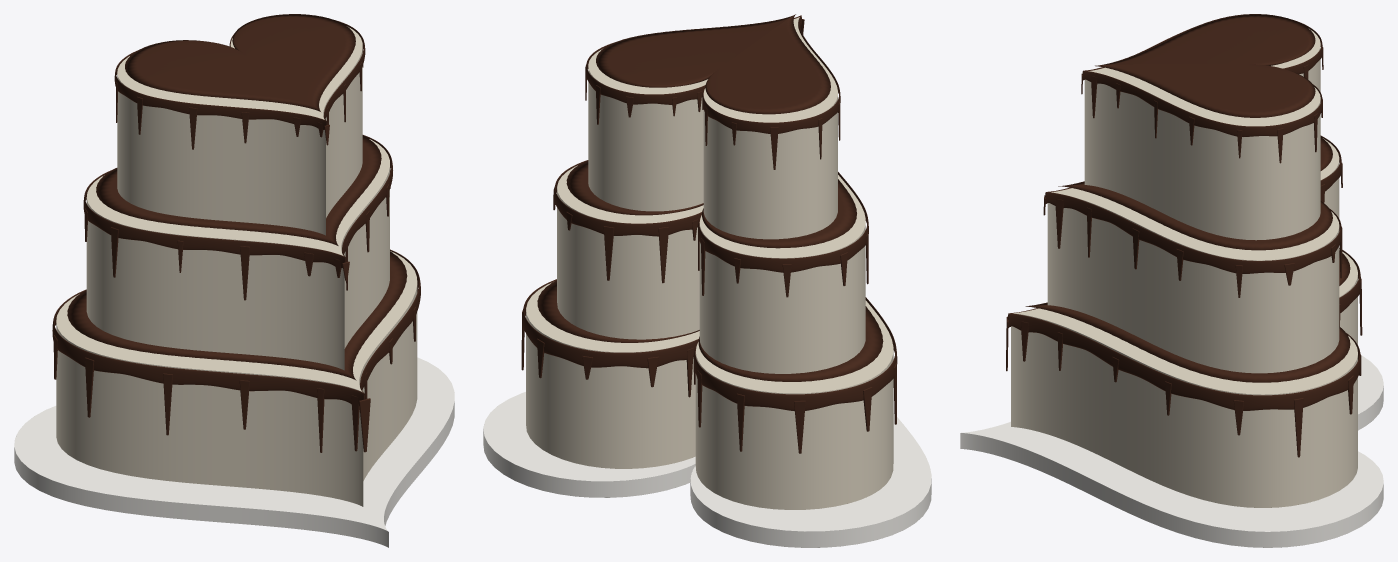
File: heart_3_tier.glb
3 views of the same model, side by side, from view 1: azimuth 30°, elevation 25°; view 2: azimuth 150°, elevation 25°; view 3: azimuth 270°, elevation 25° (orthographic). The views are drawn at different scales.
Parts seen in each view (by area): view 1: heart_3_L1_body, heart_3_L2_body, heart_3_L3_body, heart_3_board, heart_3_L3_copied_circle_style_glossy_top_cap, heart_3_L1_copied_circle_style_heart_full_perimeter_chocolat, heart_3_L1_copied_circle_style_glossy_top_cap, heart_3_L2_copied_circle_style_glossy_top_cap, heart_3_L2_copied_circle_style_heart_full_perimeter_chocolat, heart_3_L3_copied_circle_style_heart_full_perimeter_chocolat; view 2: heart_3_L1_body, heart_3_L2_body, heart_3_L3_body, heart_3_board, heart_3_L3_copied_circle_style_glossy_top_cap, heart_3_L1_copied_circle_style_heart_full_perimeter_chocolat, heart_3_L2_copied_circle_style_heart_full_perimeter_chocolat, heart_3_L1_copied_circle_style_glossy_top_cap, heart_3_L2_copied_circle_style_glossy_top_cap, heart_3_L3_copied_circle_style_heart_full_perimeter_chocolat; view 3: heart_3_L1_body, heart_3_L2_body, heart_3_L3_body, heart_3_board, heart_3_L3_copied_circle_style_glossy_top_cap, heart_3_L1_copied_circle_style_heart_full_perimeter_chocolat, heart_3_L2_copied_circle_style_heart_full_perimeter_chocolat, heart_3_L1_copied_circle_style_glossy_top_cap, heart_3_L2_copied_circle_style_glossy_top_cap, heart_3_L3_copied_circle_style_heart_full_perimeter_chocolat.
Part boxes in pixels (x1,y1,x2,y2): heart_3_L1_body: [56, 251, 417, 506]; heart_3_L2_body: [86, 139, 389, 370]; heart_3_L3_body: [117, 26, 362, 235]; heart_3_board: [14, 357, 454, 547]; heart_3_L3_copied_circle_style_glossy_top_cap: [125, 14, 355, 111]; heart_3_L1_copied_circle_style_heart_full_perimeter_chocolat: [52, 249, 420, 406]; heart_3_L1_copied_circle_style_glossy_top_cap: [67, 251, 407, 380]; heart_3_L2_copied_circle_style_glossy_top_cap: [96, 135, 381, 245]; heart_3_L2_copied_circle_style_heart_full_perimeter_chocolat: [83, 135, 392, 268]; heart_3_L3_copied_circle_style_heart_full_perimeter_chocolat: [114, 20, 365, 129]; heart_3_L1_body: [526, 282, 893, 509]; heart_3_L2_body: [557, 165, 865, 373]; heart_3_L3_body: [588, 17, 837, 239]; heart_3_board: [483, 392, 931, 547]; heart_3_L3_copied_circle_style_glossy_top_cap: [596, 14, 830, 114]; heart_3_L1_copied_circle_style_heart_full_perimeter_chocolat: [522, 279, 897, 411]; heart_3_L2_copied_circle_style_heart_full_perimeter_chocolat: [554, 160, 868, 272]; heart_3_L1_copied_circle_style_glossy_top_cap: [537, 280, 883, 381]; heart_3_L2_copied_circle_style_glossy_top_cap: [566, 160, 856, 248]; heart_3_L3_copied_circle_style_heart_full_perimeter_chocolat: [585, 15, 840, 133]; heart_3_L1_body: [1011, 249, 1357, 507]; heart_3_L2_body: [1047, 138, 1339, 373]; heart_3_L3_body: [1084, 29, 1320, 240]; heart_3_board: [960, 355, 1383, 547]; heart_3_L3_copied_circle_style_glossy_top_cap: [1095, 14, 1315, 117]; heart_3_L1_copied_circle_style_heart_full_perimeter_chocolat: [1007, 248, 1360, 410]; heart_3_L2_copied_circle_style_heart_full_perimeter_chocolat: [1045, 135, 1341, 273]; heart_3_L1_copied_circle_style_glossy_top_cap: [1025, 250, 1350, 382]; heart_3_L2_copied_circle_style_glossy_top_cap: [1058, 137, 1332, 250]; heart_3_L3_copied_circle_style_heart_full_perimeter_chocolat: [1082, 20, 1322, 136].
Size of the model in its own units: 5.79 by 5.25 by 5.24.
